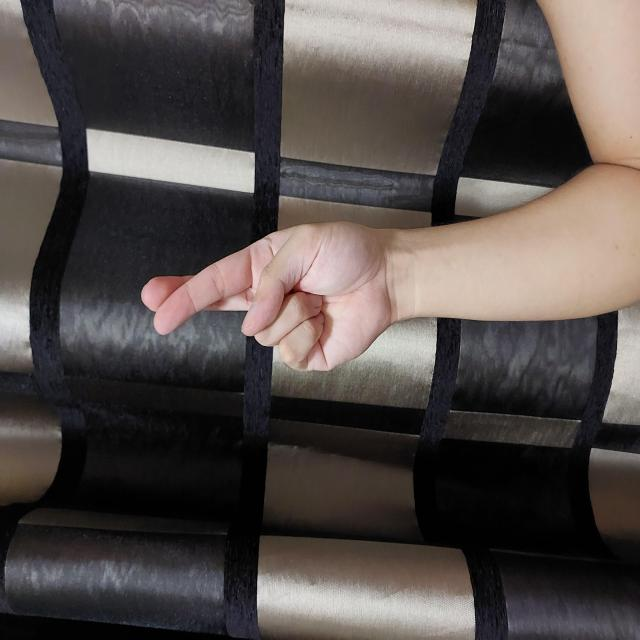R: (267, 140, 420, 396)
